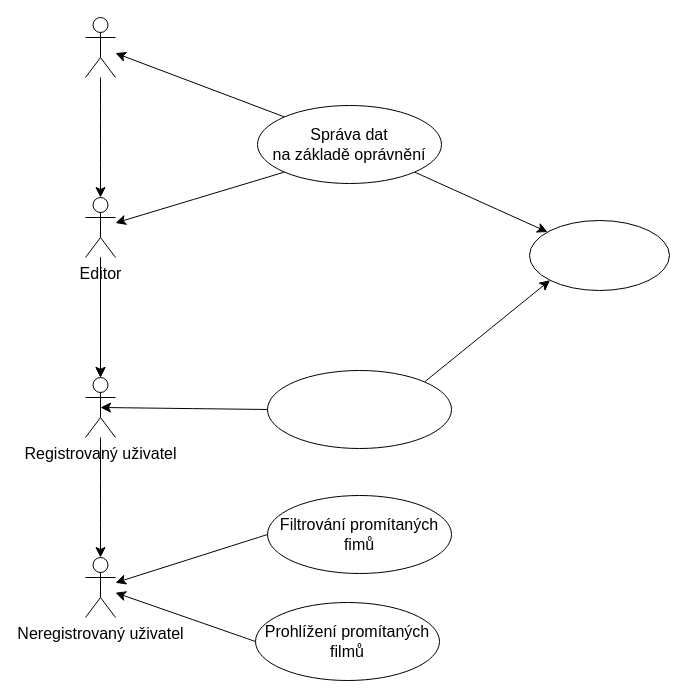
Some shapes in this 687 by 698 pixel diagram are drawn without their labels. The shapes that lost their labels are listed below. From the top down, each one's centre as x and y in pixels, then its label:
point 100,47: Administrátor
point 599,255: Odesílání emailů
point 359,409: Rezervování sedadel na promítání
